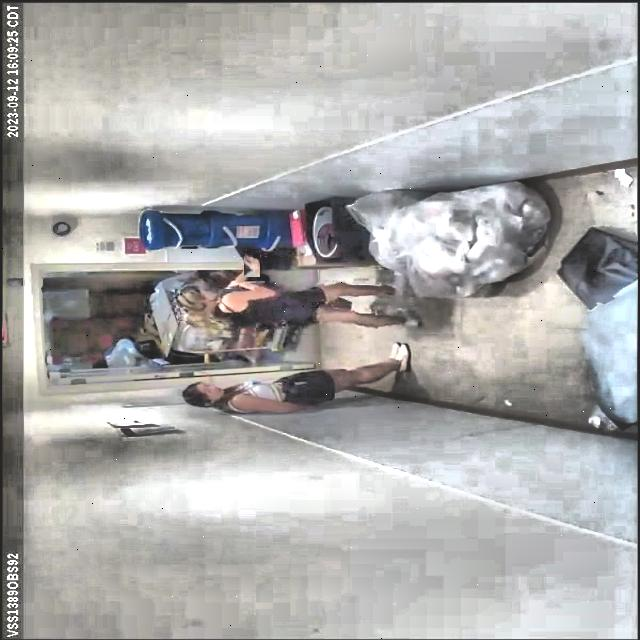not-gloved: (240, 250, 264, 273)
